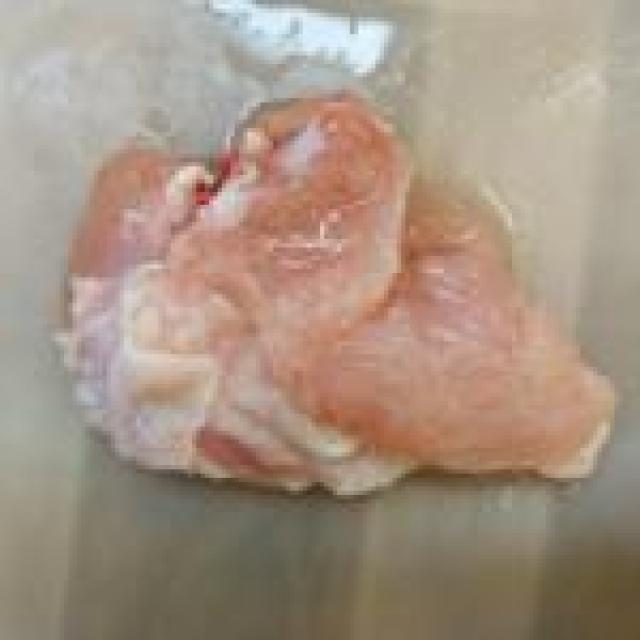breast: (66, 88, 620, 500)
